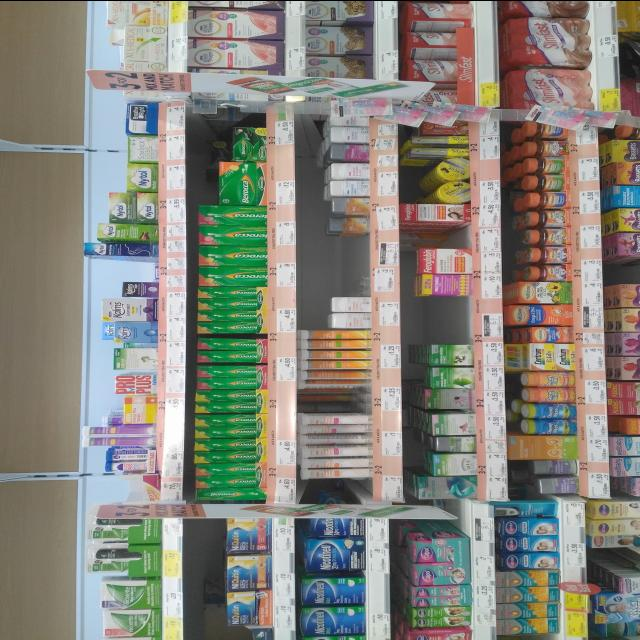empty_space: (403, 294, 477, 342), (308, 237, 368, 294), (419, 231, 465, 247), (405, 517, 467, 528), (318, 477, 371, 488), (217, 114, 263, 126)
